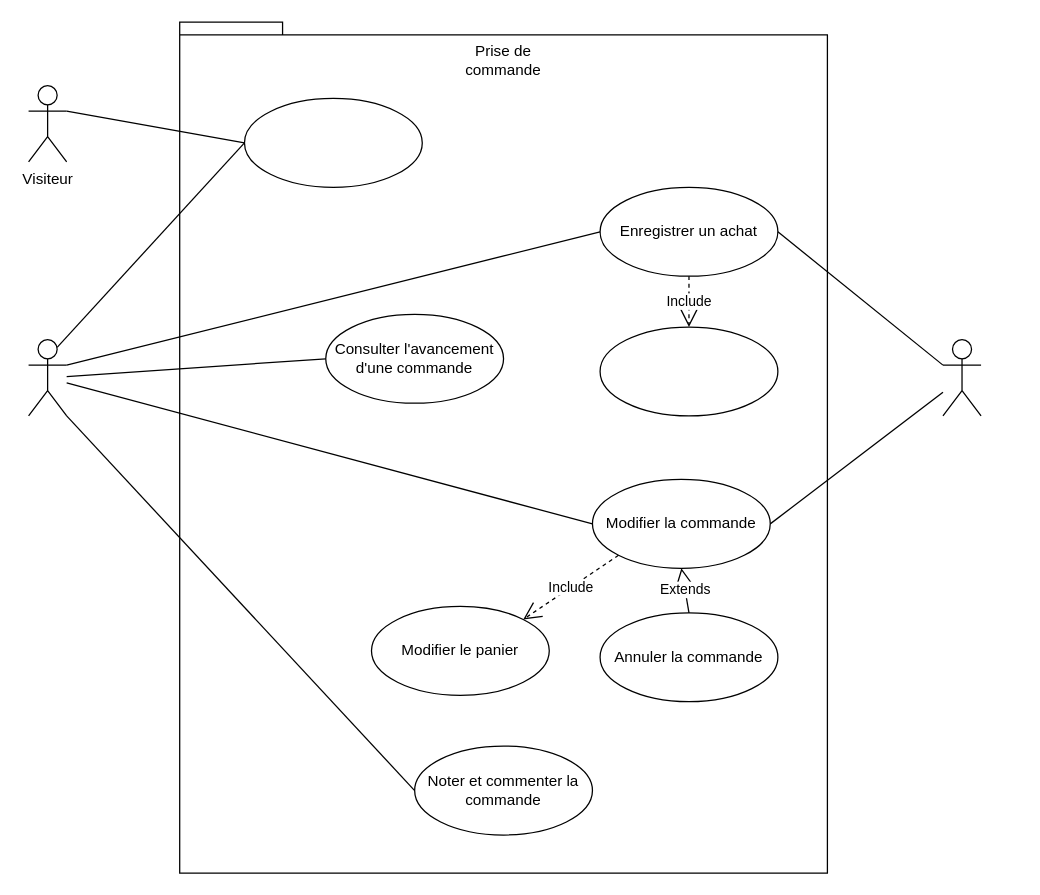
This 1040x895 diagram has some shape labels left out. Here are the shapes that lost their labels. From the top down, the centre of each, then its label:
At point (332, 142): "Consulter les produits".
At point (47, 377): "Client".
At point (688, 371): "Constituer le panier".
At point (961, 377): "<<<Logiciel>>> Service bancaire".
